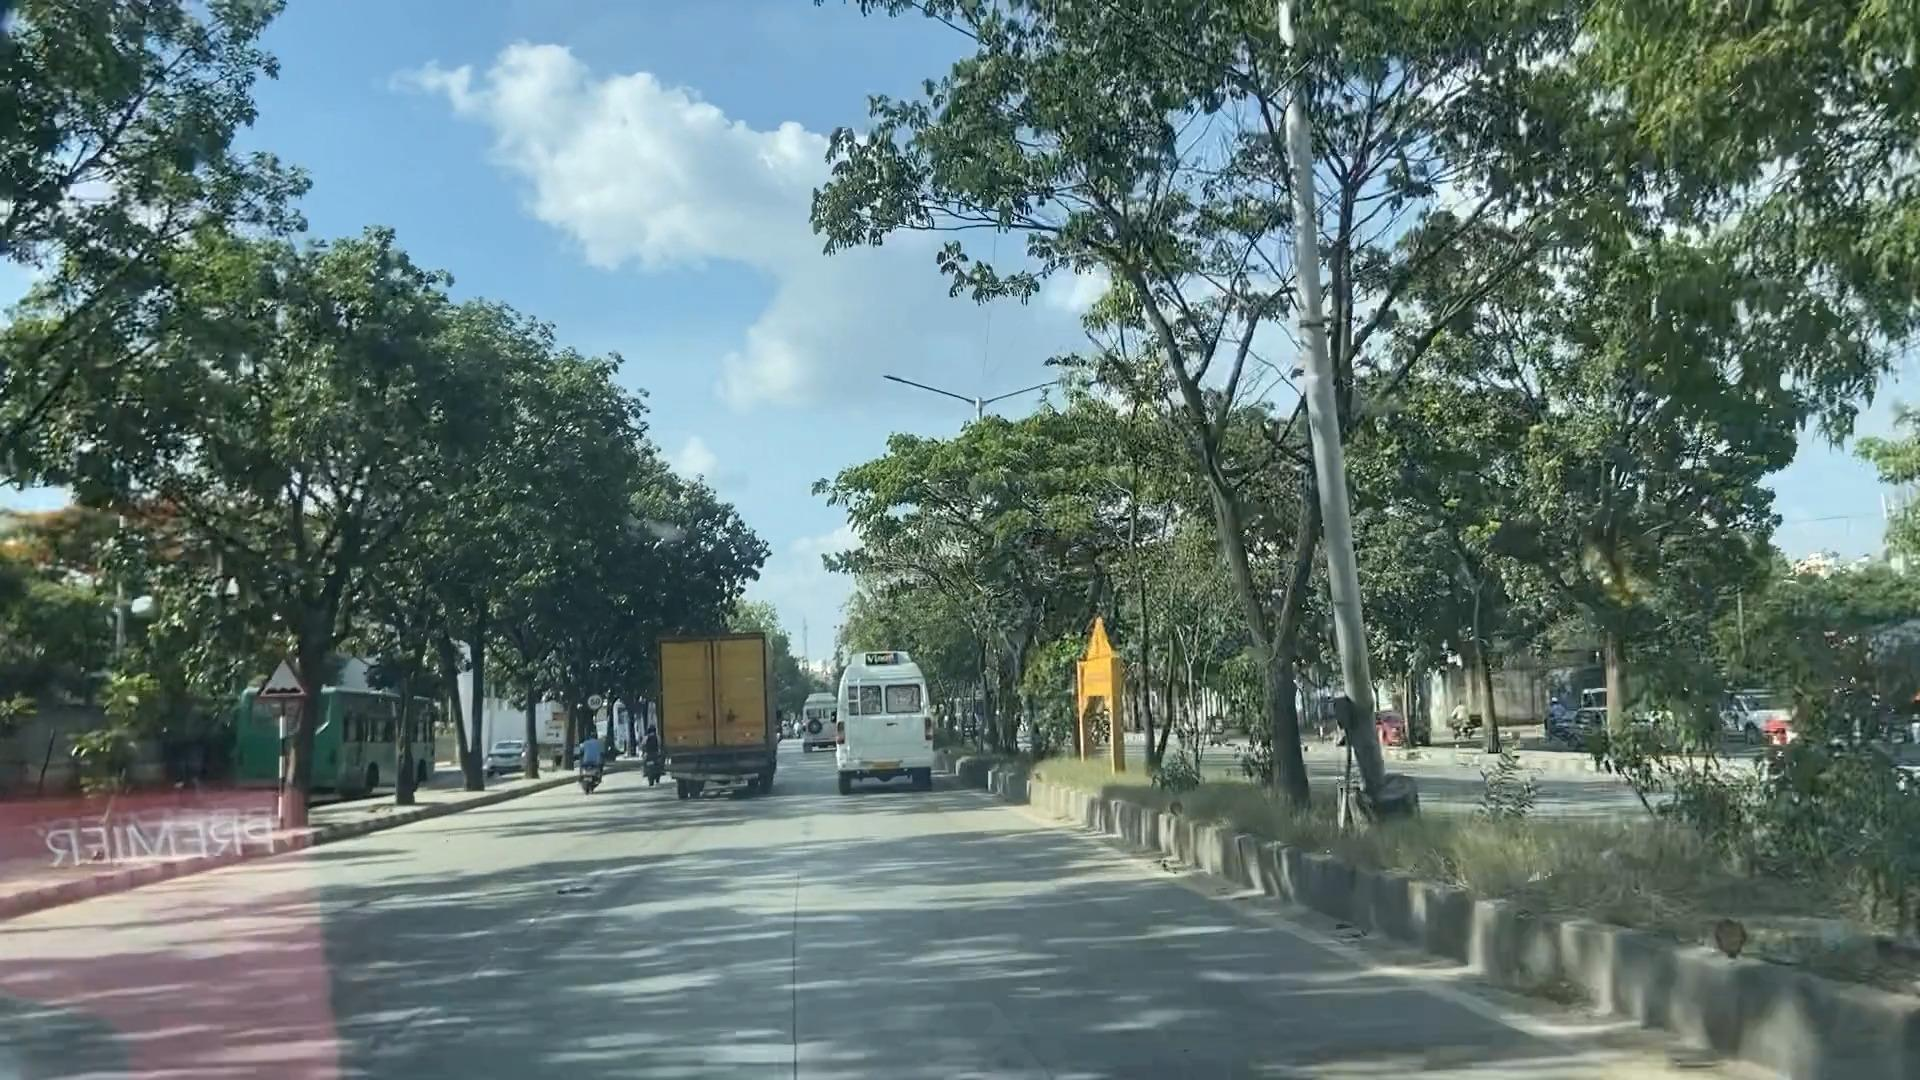HMV: (829, 628, 942, 807), (649, 630, 766, 791)
RoadDamages: (527, 860, 622, 959)
